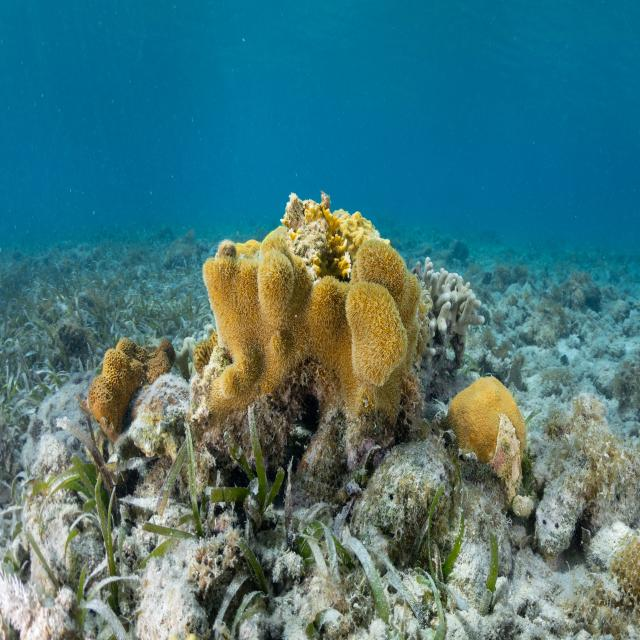Coral: (202, 226, 433, 427), (281, 190, 391, 280), (88, 336, 176, 444), (436, 376, 527, 475), (411, 256, 485, 366), (193, 331, 218, 379)
